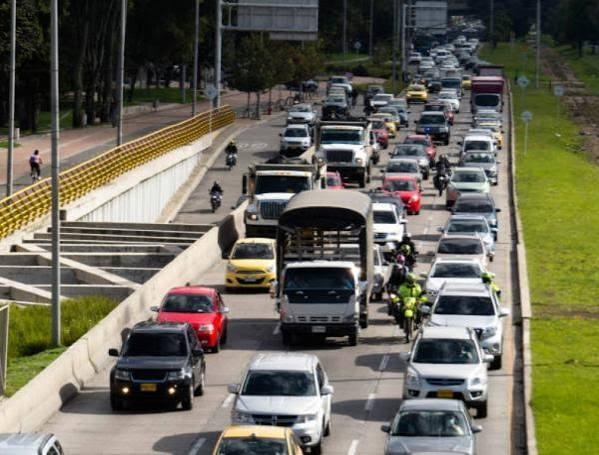car: (2, 51, 552, 455), (164, 48, 528, 422), (43, 50, 511, 312), (276, 196, 371, 335), (278, 213, 367, 341), (231, 358, 333, 447), (107, 330, 201, 416), (278, 261, 362, 347), (405, 336, 496, 409), (409, 320, 498, 384), (428, 287, 506, 354), (395, 372, 486, 429), (228, 204, 289, 289), (382, 400, 477, 454), (152, 286, 226, 353), (153, 286, 226, 353), (245, 166, 314, 230), (178, 425, 311, 455), (226, 235, 279, 293), (429, 242, 486, 295), (424, 257, 490, 301), (429, 282, 499, 323), (364, 196, 408, 256), (446, 323, 503, 367), (317, 129, 365, 180), (318, 134, 365, 186), (440, 213, 496, 255), (436, 222, 492, 264), (374, 181, 416, 235), (380, 164, 423, 213), (389, 277, 428, 331), (445, 206, 498, 244), (447, 166, 496, 206), (467, 323, 505, 370)
